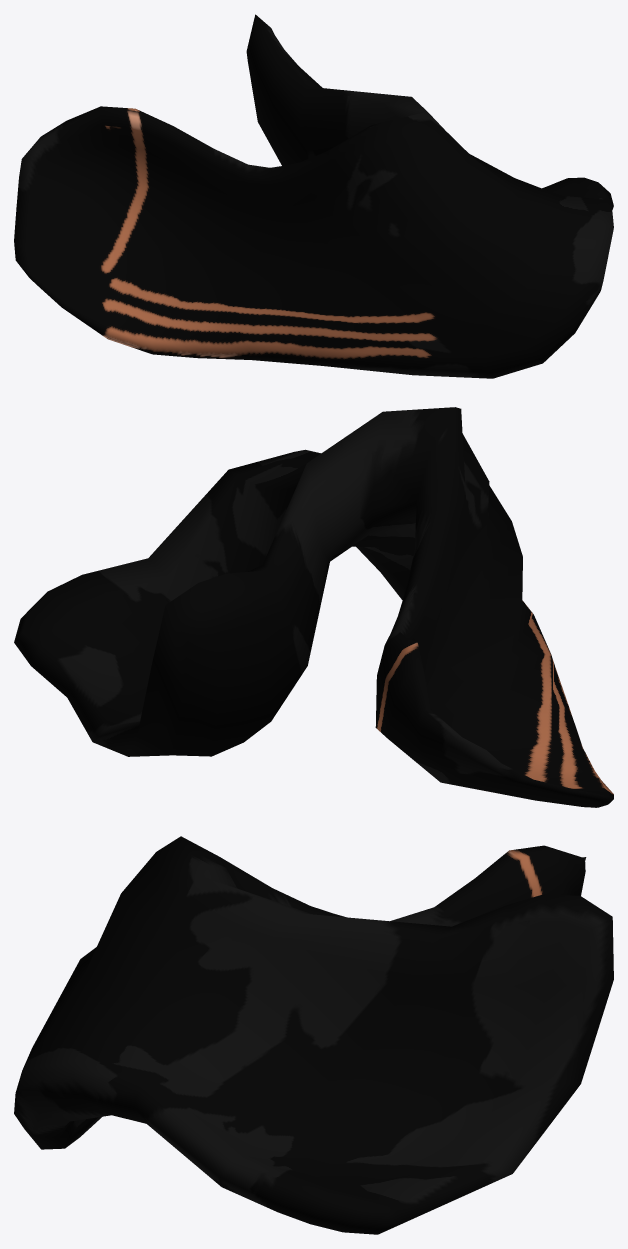
The model's file is crumpled_sock.fbx.
3 views of the same model, one above another, from view 1: azimuth 30°, elevation 25°; view 2: azimuth 150°, elevation 25°; view 3: azimuth 270°, elevation 25° (orthographic). The views are drawn at different scales.
Visible parts, largest first — view 1: crumpled sock; view 2: crumpled sock; view 3: crumpled sock.
Part boxes in pixels (bbox=[...]): crumpled sock: bbox=[14, 14, 613, 378]; crumpled sock: bbox=[14, 407, 613, 807]; crumpled sock: bbox=[14, 836, 613, 1234].
Bounding box in the file's own units: 1.7 × 0.7276 × 1.43.
1 material, 1 textured.
